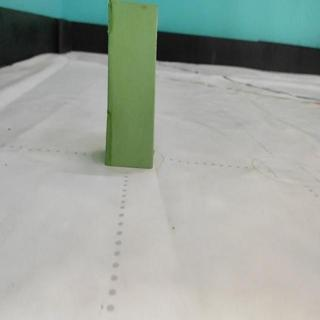greenbox: (105, 0, 159, 170)
